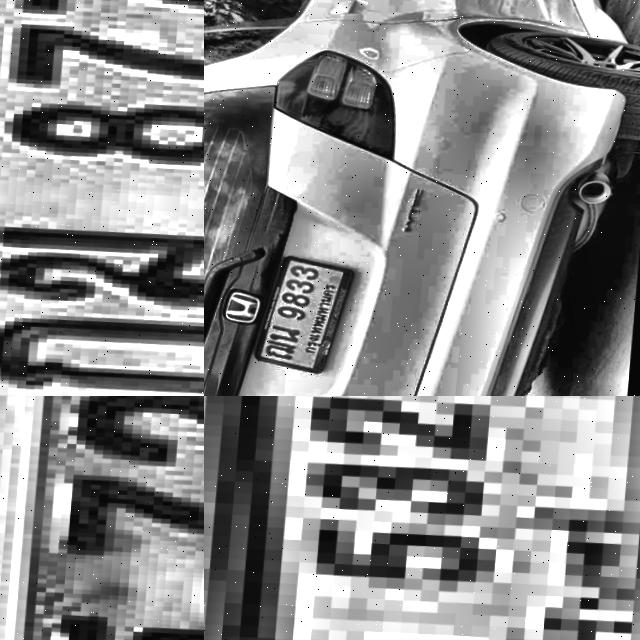license-plate: (204, 396, 640, 640), (0, 0, 204, 396), (0, 396, 204, 640), (251, 252, 360, 381)
